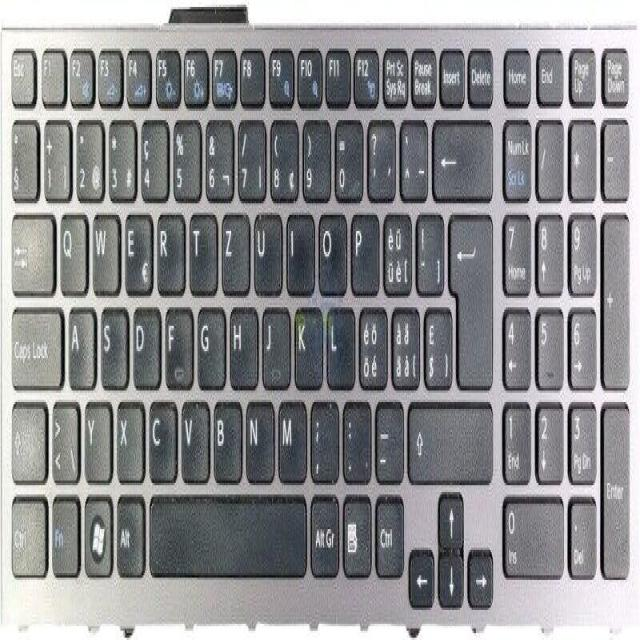0: (332, 111, 362, 196)
1: (41, 114, 69, 197)
2: (74, 113, 103, 194)
3: (106, 113, 135, 194)
4: (139, 114, 168, 197)
5: (171, 114, 199, 197)
6: (203, 111, 232, 196)
7: (235, 114, 264, 197)
8: (267, 114, 296, 197)
9: (300, 114, 329, 197)
a: (66, 301, 93, 384)
accent: (398, 114, 427, 197)
ae: (391, 300, 421, 386)
alt-left: (113, 490, 142, 573)
altgr-right: (307, 488, 337, 571)
b: (210, 393, 240, 478)
c: (147, 393, 175, 478)
comma: (308, 393, 337, 478)
d: (130, 298, 159, 384)
del: (430, 111, 491, 196)
e: (122, 206, 151, 289)
enter: (447, 206, 492, 384)
f: (163, 301, 192, 384)
g: (195, 298, 224, 384)
h: (226, 301, 256, 384)
i: (284, 206, 313, 289)
j: (259, 298, 288, 384)
k: (292, 301, 321, 384)
keyboard: (2, 12, 632, 610)
l: (324, 301, 353, 384)
less: (49, 393, 77, 478)
m: (274, 393, 304, 476)
minus: (373, 393, 402, 478)
n: (243, 393, 272, 478)
o: (315, 203, 345, 291)
oe: (357, 298, 386, 384)
p: (349, 206, 377, 291)
point: (340, 393, 370, 478)
q: (57, 206, 85, 289)
r: (155, 208, 184, 289)
s: (98, 298, 127, 384)
shift-left: (8, 395, 45, 478)
shift-lock: (7, 298, 60, 384)
shift-right: (406, 393, 491, 478)
space: (146, 488, 305, 573)
strg-left: (8, 490, 45, 573)
strg-right: (372, 490, 402, 573)
t: (187, 206, 215, 289)
tab: (8, 203, 52, 289)
u: (251, 206, 280, 291)
ue: (383, 208, 412, 293)
v: (179, 393, 208, 476)
w: (90, 203, 117, 289)
x: (114, 393, 143, 478)
y: (82, 395, 110, 478)
z: (219, 206, 248, 291)
